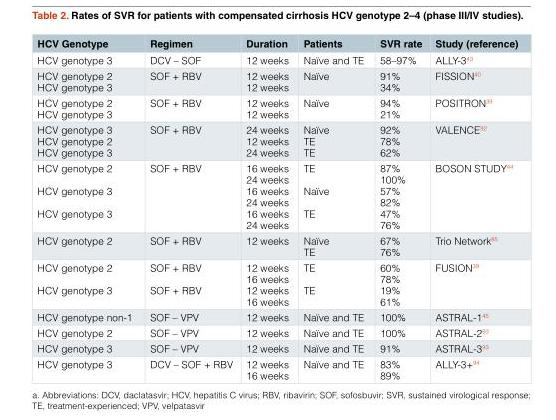table: (36, 36, 517, 381)
table column: (36, 36, 140, 381), (140, 36, 238, 381), (427, 36, 517, 381), (295, 36, 371, 381), (238, 36, 295, 381), (371, 36, 427, 381)
table column header: (36, 36, 517, 51)
table row: (36, 159, 517, 232), (36, 259, 517, 308), (36, 121, 517, 159), (36, 67, 517, 94), (36, 94, 517, 121), (36, 232, 517, 259), (36, 355, 517, 381), (36, 51, 517, 67), (36, 308, 517, 324), (36, 324, 517, 340), (36, 36, 517, 51), (36, 340, 517, 355)
